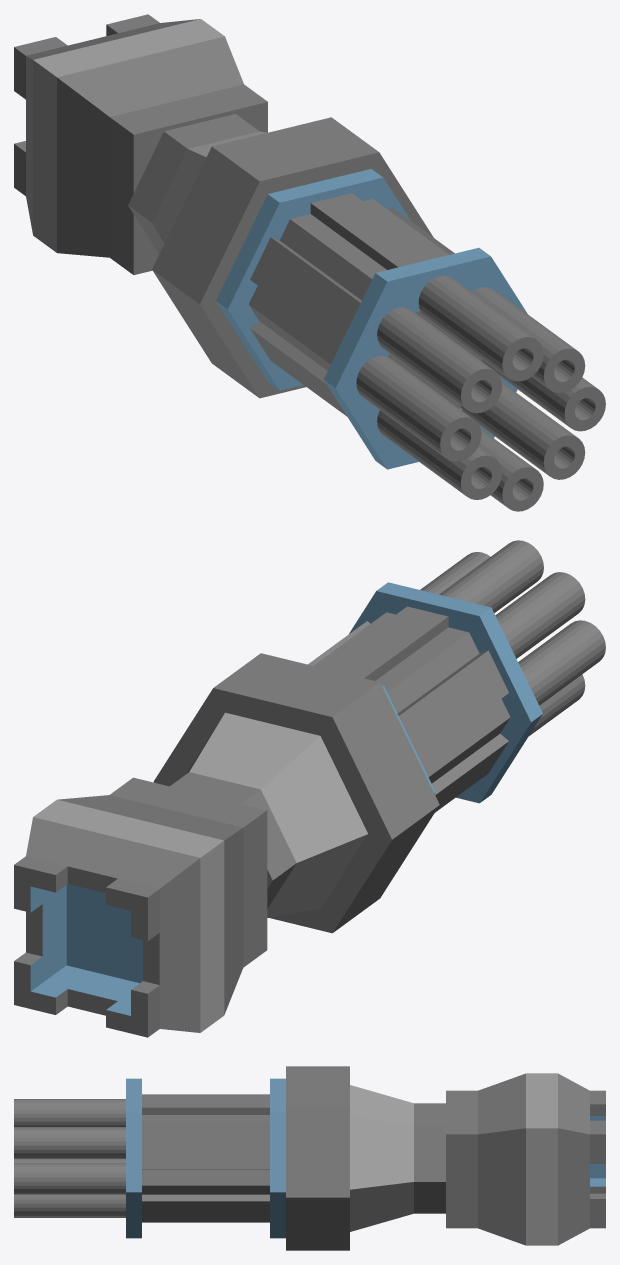
The model's file is Chaingun.fbx.
The picture shows the model from 3 angles, top to bottom: view 1: azimuth 30°, elevation 25°; view 2: azimuth 150°, elevation 25°; view 3: azimuth 270°, elevation 25°; orthographic projection. The views are drawn at different scales.
Parts seen in each view (by area): view 1: Chaingun, Spin Barrel; view 2: Chaingun, Spin Barrel; view 3: Chaingun, Spin Barrel.
Part boxes in pixels (x1,y1,x2,y2): Chaingun: (14, 14, 527, 469); Spin Barrel: (356, 275, 605, 511); Chaingun: (14, 582, 542, 1037); Spin Barrel: (420, 540, 605, 735); Chaingun: (126, 1066, 605, 1250); Spin Barrel: (14, 1099, 125, 1217).
Size of the model in its own units: 92.38 by 80 by 296.
